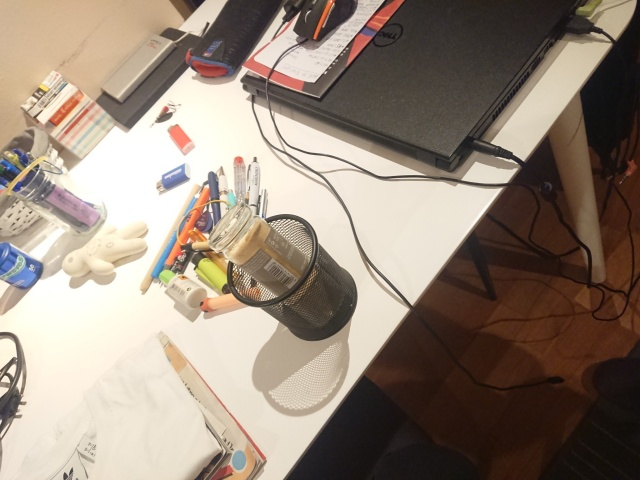Kotanyi Garlic Granules 70g: (206, 200, 347, 329)
